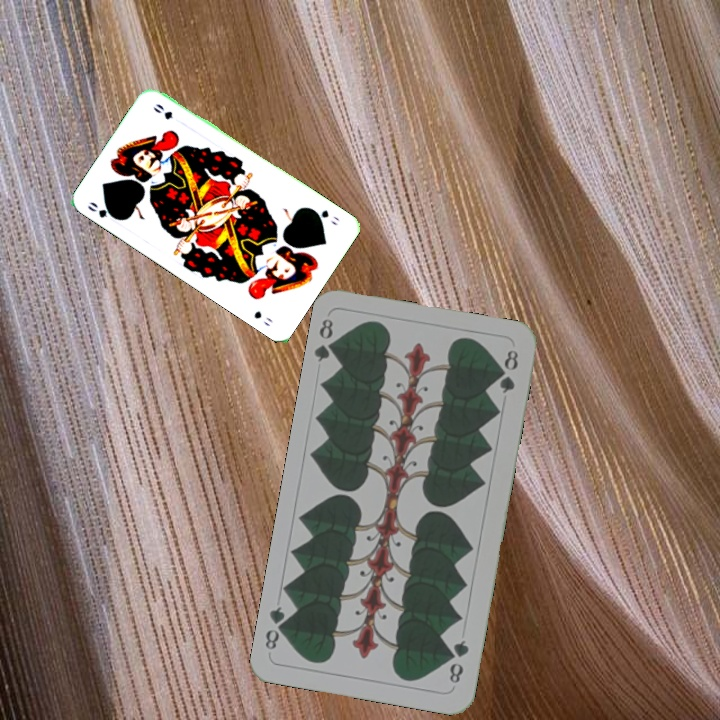G8: (311, 314, 342, 365), (445, 636, 472, 686)
GO: (83, 198, 122, 223), (307, 205, 342, 228)
